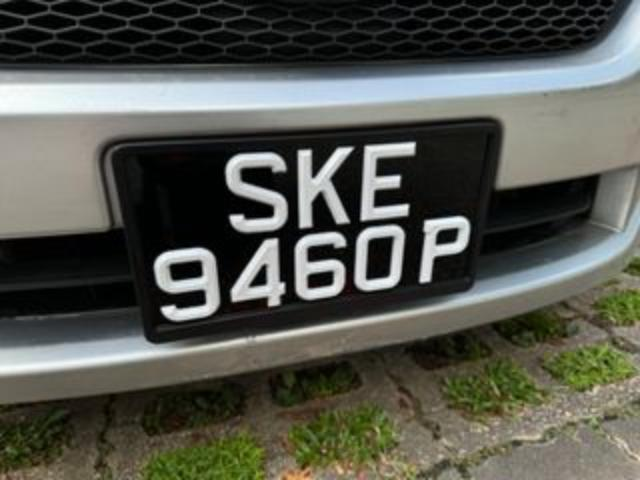License_Plate: (117, 118, 496, 349)
